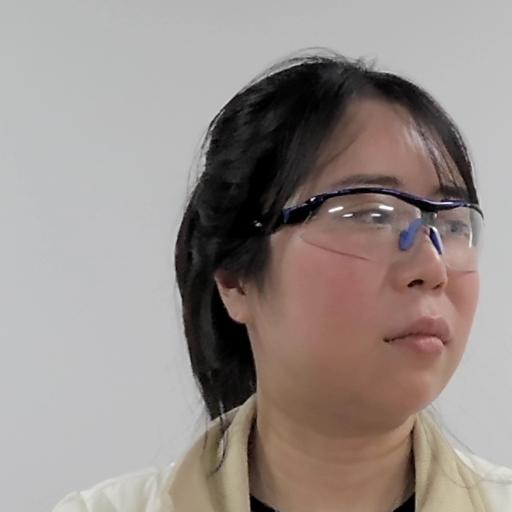glasses: (182, 69, 498, 420)
